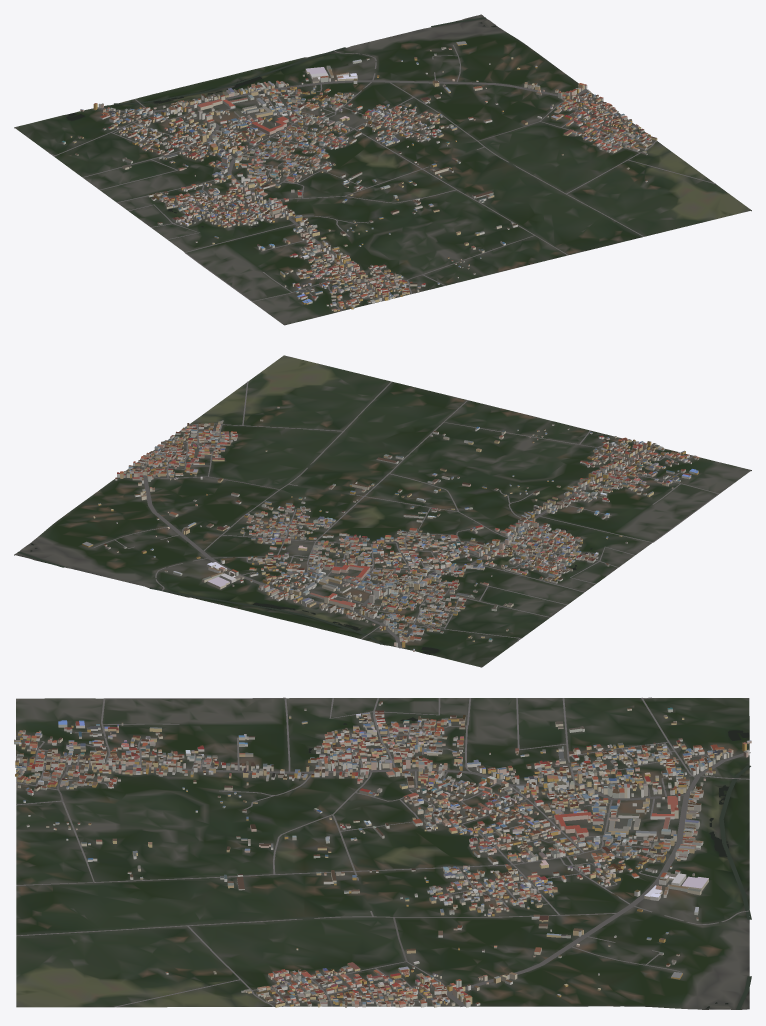
3 views of the same model, one above another, from view 1: azimuth 30°, elevation 25°; view 2: azimuth 150°, elevation 25°; view 3: azimuth 270°, elevation 25° (orthographic). The views are drawn at different scales.
Visible parts, largest first — view 1: ground, buildings, roads, water; view 2: ground, buildings, roads, water; view 3: ground, buildings, roads, water.
Part boxes in pixels (x1,y1,x2,y2): ground: (14, 14, 751, 325); buildings: (61, 41, 657, 311); roads: (49, 45, 715, 310); water: (66, 17, 496, 227); ground: (14, 355, 751, 667); buildings: (82, 406, 699, 651); roads: (94, 381, 719, 648); water: (17, 528, 592, 654); ground: (16, 698, 749, 1009); buildings: (14, 701, 751, 1007); roads: (16, 697, 750, 1007); water: (308, 717, 751, 1009).
Size of the model in its own units: 1407 by 32.14 by 1411.
